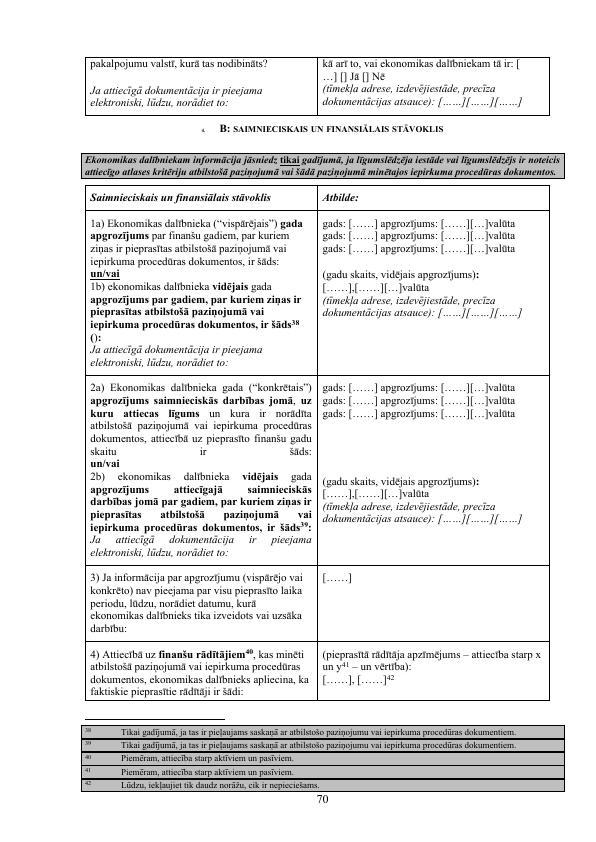table: (85, 182, 551, 703), (78, 722, 569, 795), (80, 53, 559, 119)
text: (82, 151, 566, 178), (217, 120, 451, 136)
